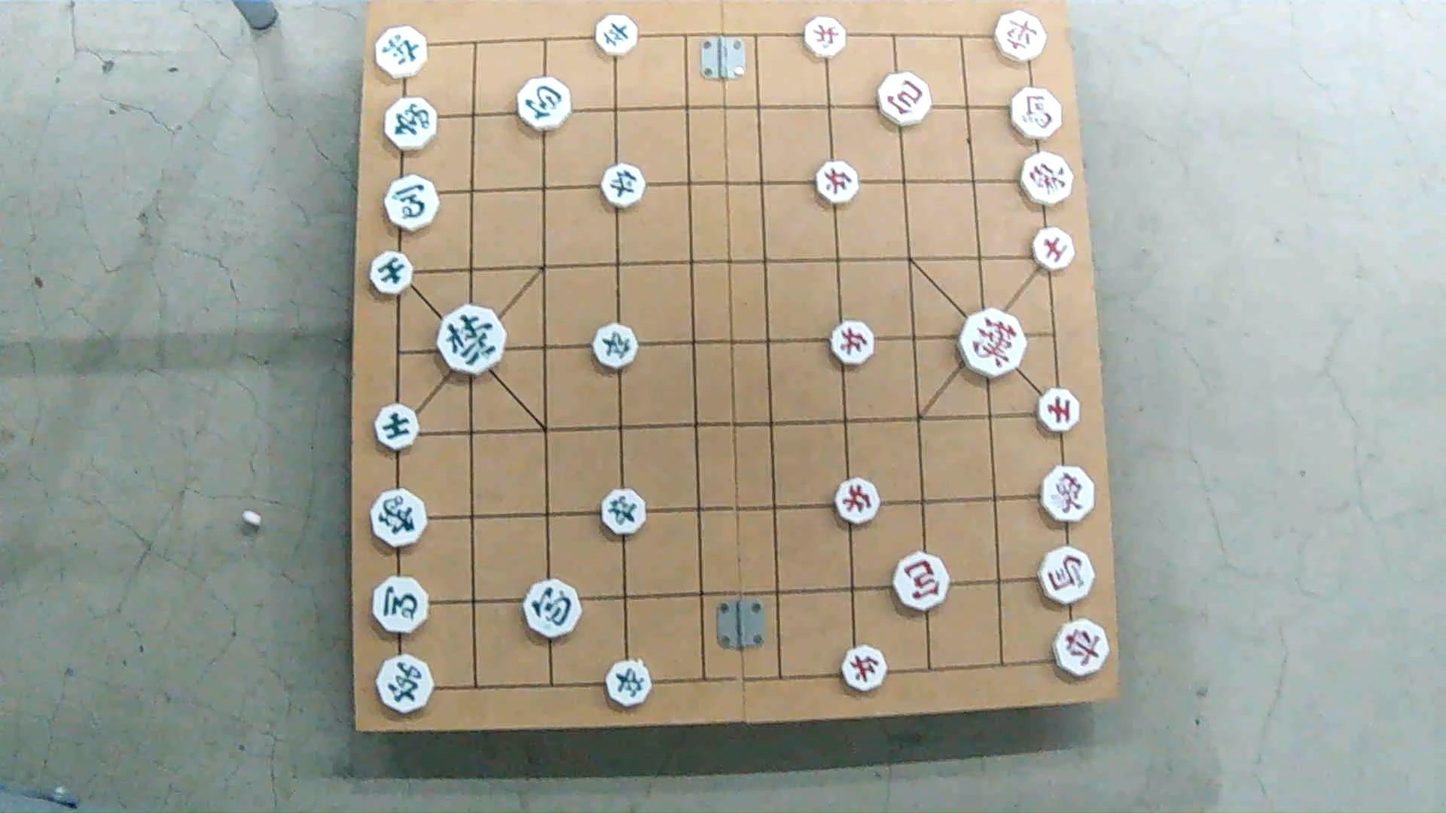cha_green: (377, 653, 436, 714), (374, 28, 429, 78)
cha_red: (1049, 620, 1112, 675), (994, 11, 1048, 59)
jol_green: (607, 661, 654, 705), (603, 491, 649, 534), (593, 328, 640, 370), (602, 165, 648, 206), (596, 14, 640, 53)
jol_red: (830, 480, 878, 523), (828, 322, 876, 364), (838, 646, 885, 687), (813, 163, 859, 204), (801, 17, 845, 56)
ma_green: (372, 577, 429, 637), (383, 178, 441, 231)
ma_red: (1039, 547, 1093, 602), (1011, 91, 1064, 142)
po_green: (525, 580, 584, 638), (519, 78, 572, 135)
po_red: (890, 555, 948, 610), (875, 74, 931, 124)
sa_green: (374, 405, 419, 448), (368, 253, 413, 295)
sa_red: (1032, 225, 1076, 270), (1037, 387, 1081, 431)
sang_green: (370, 485, 430, 549), (383, 100, 440, 151)
sang_red: (1042, 464, 1097, 525), (1020, 154, 1074, 210)
wang_green: (439, 309, 508, 375)
wang_red: (961, 306, 1029, 381)
